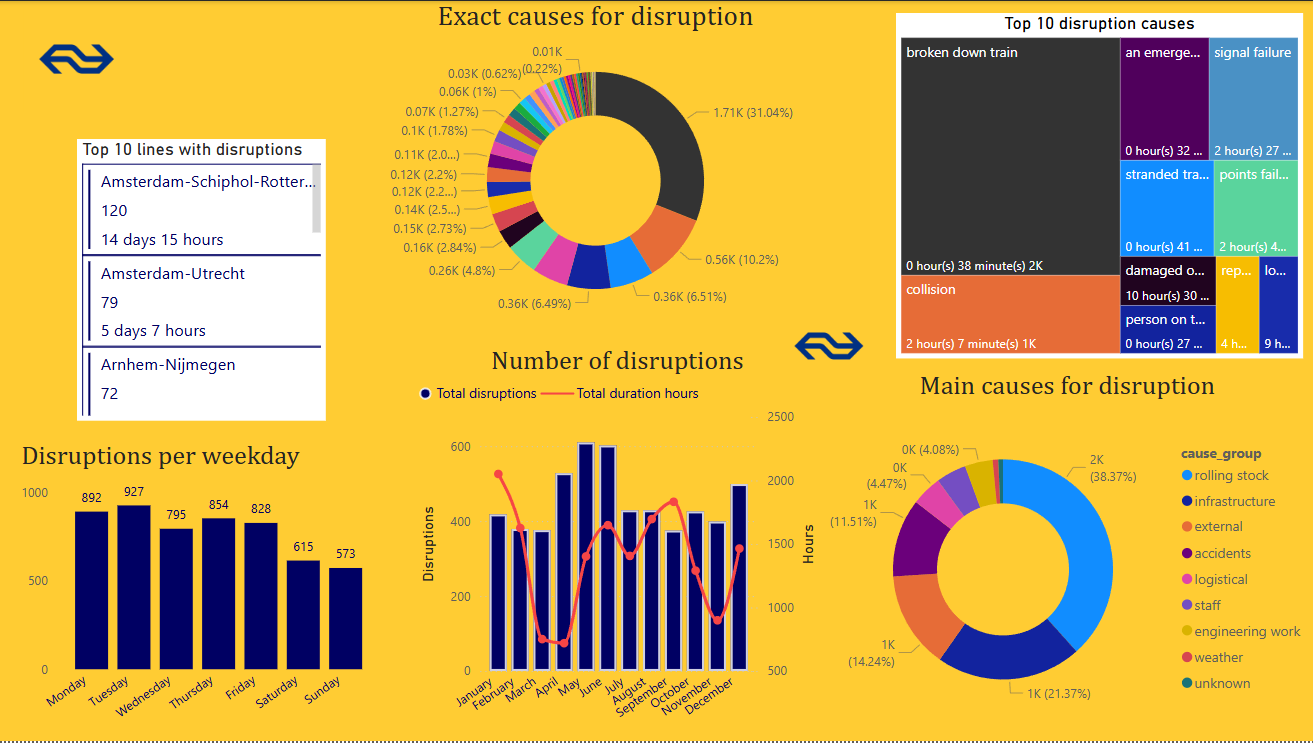

The dashboard page shown, as its layout file describes it:
{"tool":"powerbi","page":{"name":"NS Disruptions 22","canvas":[1280,720],"ordinal":0},"visuals":[{"type":"shape","box":[0,0,1280,720],"z":0},{"type":"image","box":[0,0,150,113.3],"z":1000},{"type":"multiRowCard","title":"Top 10 lines with disruptions","fields":{"Values":["top distruptions.ns_lines","Max(top distruptions.total_disruptions)","top distruptions.total_duration"]},"box":[75.6,134.4,242.2,274.4],"z":2000},{"type":"lineStackedColumnComboChart","title":"Number of disruptions","fields":{"Category":["MonthTable.Month"],"Y":["Sum(Number of disruptions.total_disruptions)"],"Y2":["Sum(Number of disruptions.total_duration_hours)"]},"box":[403.3,335.6,395.6,384.4],"z":3000},{"type":"donutChart","title":"Exact causes for disruption","fields":{"Category":["disruptions-2022.cause_en"],"Y":["CountNonNull(disruptions-2022.cause_en)"]},"box":[362.2,0,436.7,322.2],"z":4000},{"type":"donutChart","title":"Main causes for disruption","fields":{"Category":["Main causes for disruption.cause_group"],"Y":["Sum(Main causes for disruption.total_disruptions)"]},"box":[799,360,481,360],"z":5000},{"type":"columnChart","title":"Disruptions per weekday","fields":{"Category":["WeekTable.Weekday"],"Y":["Sum(Disruptions per weekday.total_disruptions)"]},"box":[17,428,359,292],"z":6000},{"type":"treemap","title":"Top 10 disruption causes","fields":{"Group":["Top 10 disruption causes.disruption_cause"],"Details":["Top 10 disruption causes.avg_duration"],"Values":["Sum(Top 10 disruption causes.total_disruptions)"]},"box":[872,12,396,336],"z":7000},{"type":"image","box":[722,283,170,105],"z":8000},{"type":"textbox","box":[17,12,326,134],"z":9000}]}

Visuals, with their boxes in screenshot pixels (x1, y1, x2, y2), scaled from the page's 1280x720 canvas onto the 1313x743 screenshot:
shape: [x1=0, y1=0, x2=1312, y2=742]
image: [x1=0, y1=0, x2=154, y2=117]
"Top 10 lines with disruptions" multiRowCard: [x1=78, y1=139, x2=326, y2=422]
"Number of disruptions" lineStackedColumnComboChart: [x1=414, y1=346, x2=819, y2=742]
"Exact causes for disruption" donutChart: [x1=372, y1=0, x2=819, y2=332]
"Main causes for disruption" donutChart: [x1=820, y1=372, x2=1312, y2=742]
"Disruptions per weekday" columnChart: [x1=17, y1=442, x2=386, y2=742]
"Top 10 disruption causes" treemap: [x1=894, y1=12, x2=1301, y2=359]
image: [x1=741, y1=292, x2=915, y2=400]
textbox: [x1=17, y1=12, x2=352, y2=151]
